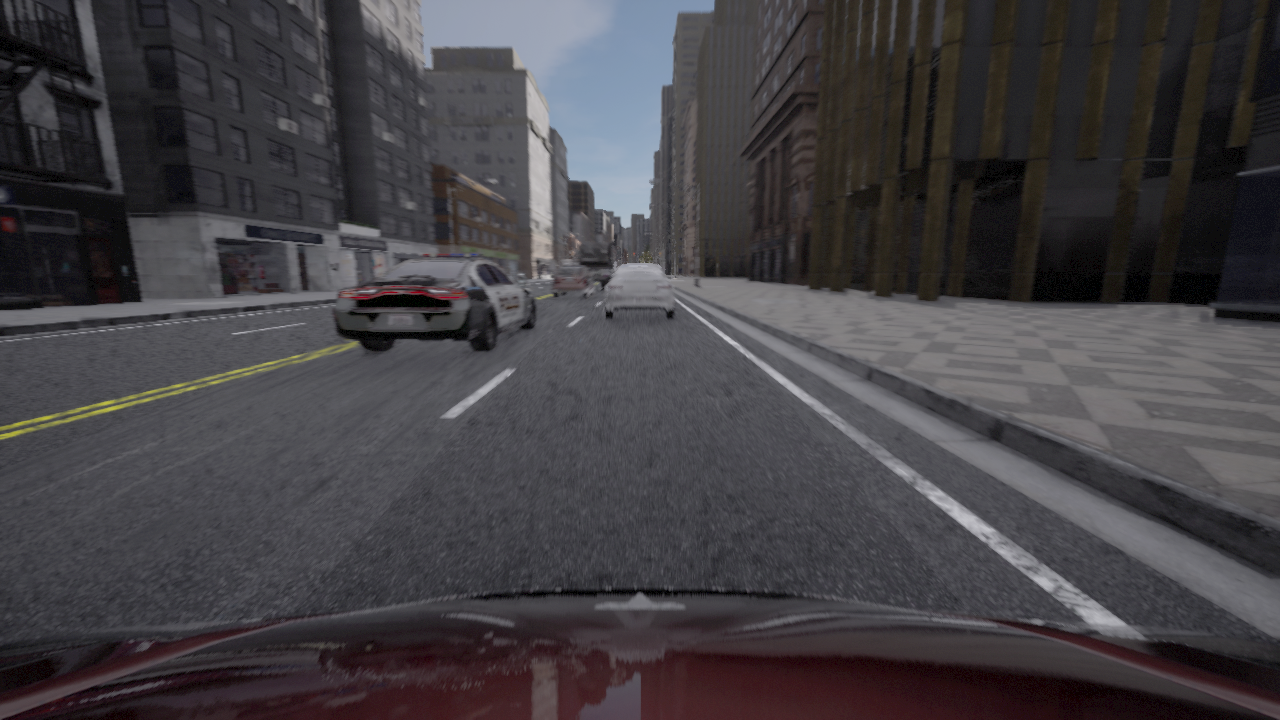cyclist: (0, 588, 1279, 719), (333, 253, 536, 351), (604, 264, 674, 318), (552, 266, 593, 298), (576, 247, 618, 276), (565, 262, 586, 263)
